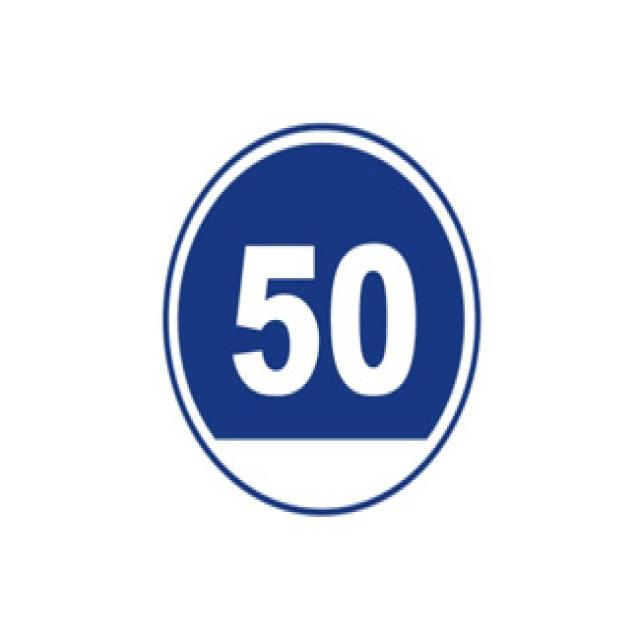speed limit 50: (161, 121, 482, 517)
